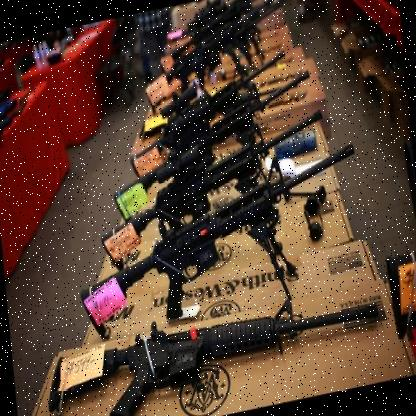rifle: (70, 137, 369, 341), (53, 280, 384, 416)
